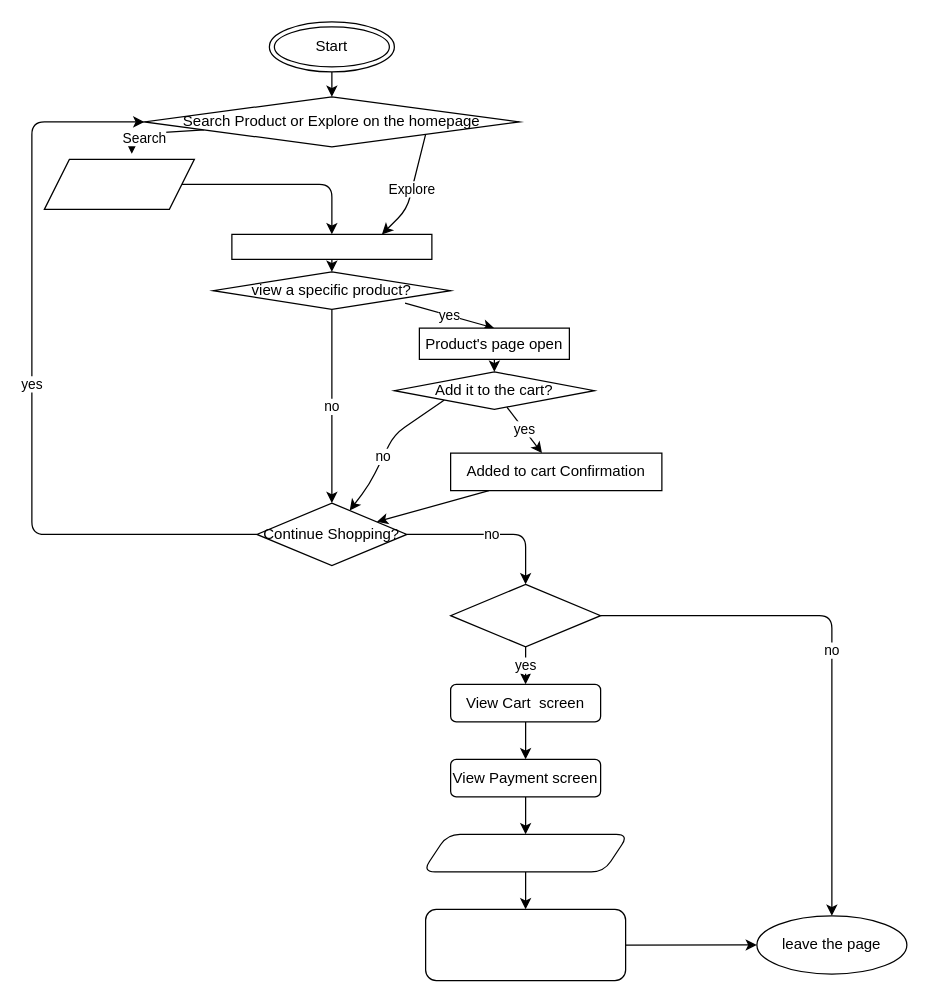
Image size: 929x1003. Some labels were removed from this diagram. The shapes that lost their labels are listed below. From the top down, each one's box as (x1, y1, x2, y2) in pixels, then its label:
(43, 158, 194, 209): User provides input for the search
(231, 233, 432, 259): User look over the products
(449, 583, 601, 647): Checkout?
(421, 833, 629, 872): User input payment information
(424, 908, 626, 981): Order Confirmation screen Email will be sent
